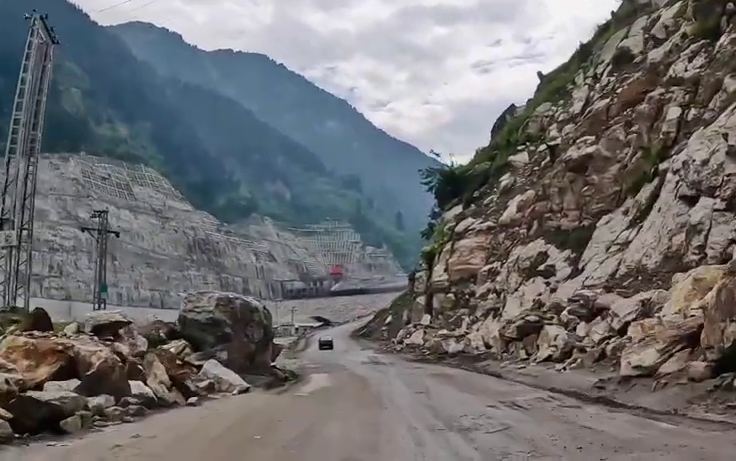unexpected: (329, 287, 594, 437)
